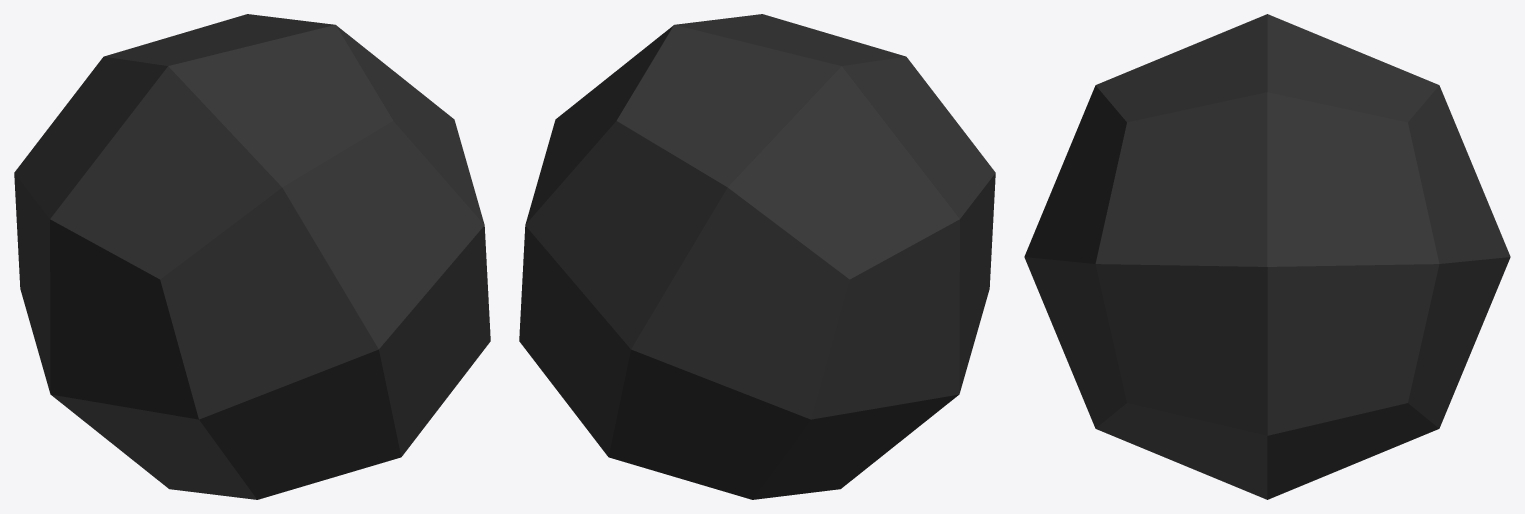
Rendered from Ball.fbx.
3 views of the same model, side by side, from view 1: azimuth 30°, elevation 25°; view 2: azimuth 150°, elevation 25°; view 3: azimuth 270°, elevation 25° (orthographic). The views are drawn at different scales.
Parts seen in each view (by area): view 1: Balls.001; view 2: Balls.001; view 3: Balls.001.
Boxes of the visible parts, box(x1,y1,x2,y2) form: Balls.001: box(14, 14, 490, 499); Balls.001: box(519, 14, 995, 499); Balls.001: box(1024, 14, 1510, 499).
Bounding box in the file's own units: 15.38 × 15.38 × 16.63.
